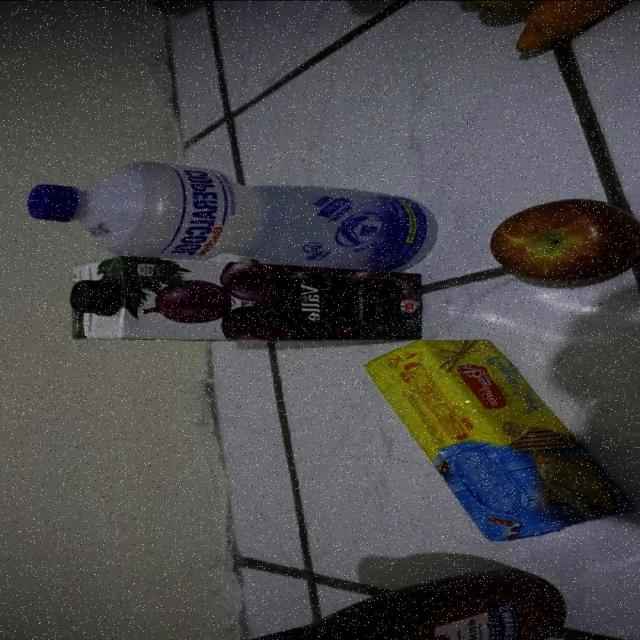AlcoholBottle: (26, 162, 438, 262)
Apple: (489, 193, 640, 285)
Carrot: (514, 0, 636, 59)
Cracker: (362, 337, 636, 541)
Ketchup: (236, 573, 563, 640)
